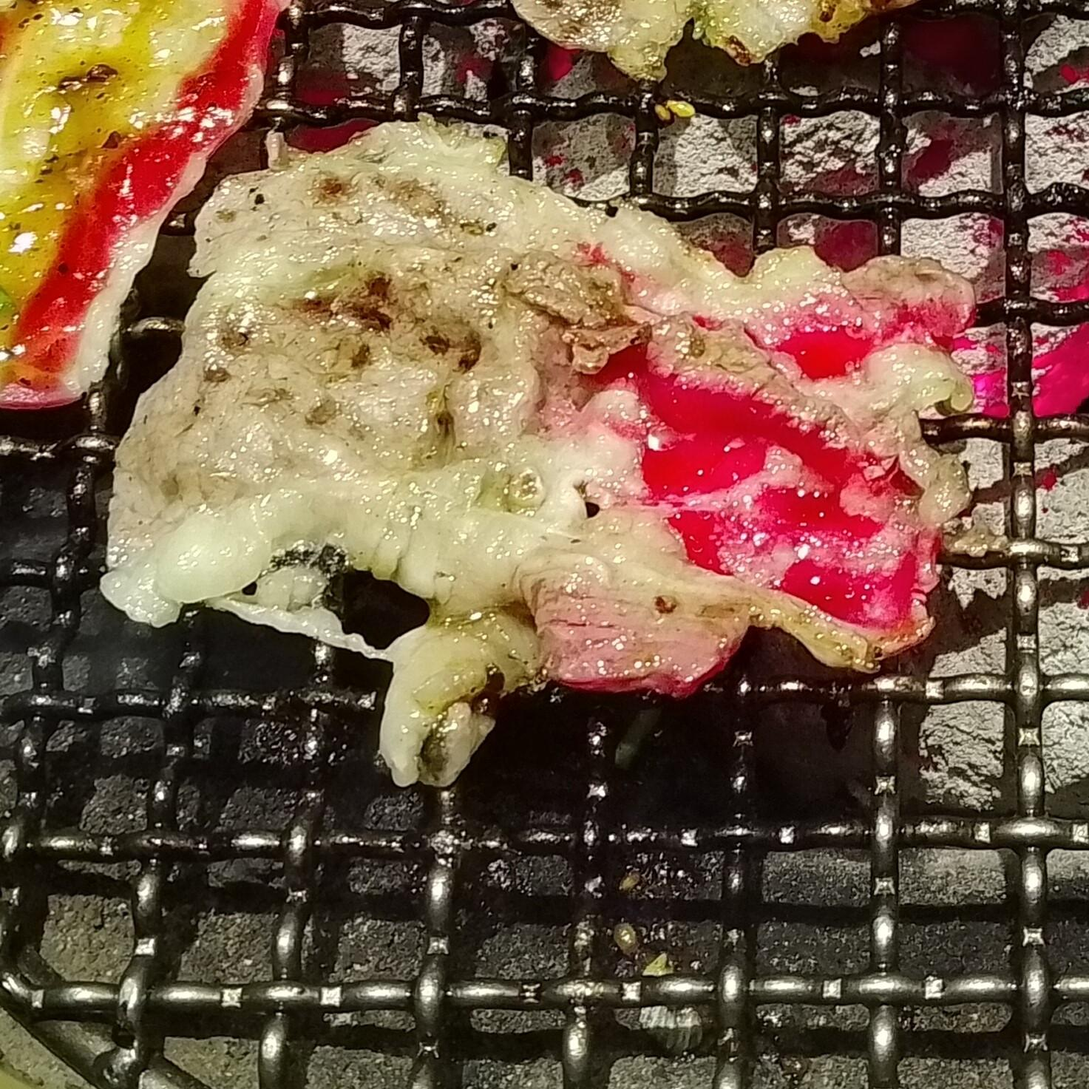Undercooked: (584, 271, 967, 648), (0, 0, 291, 421)
Well-Cooked: (111, 126, 870, 785)
